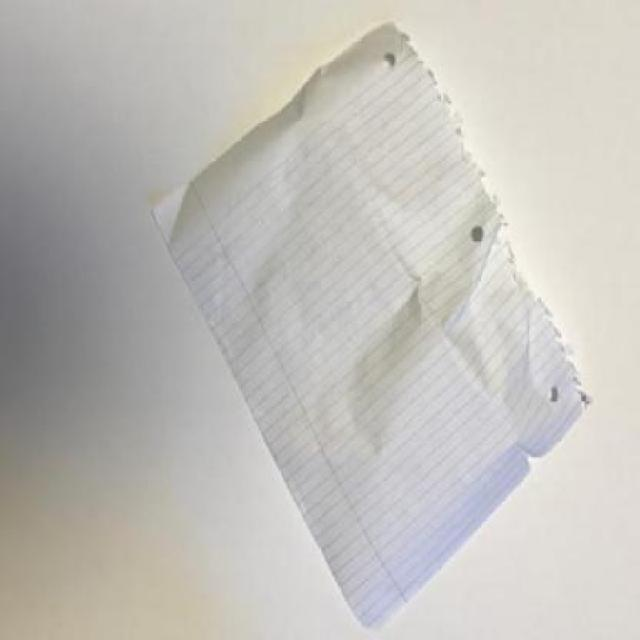cardboard: (149, 19, 592, 629)
